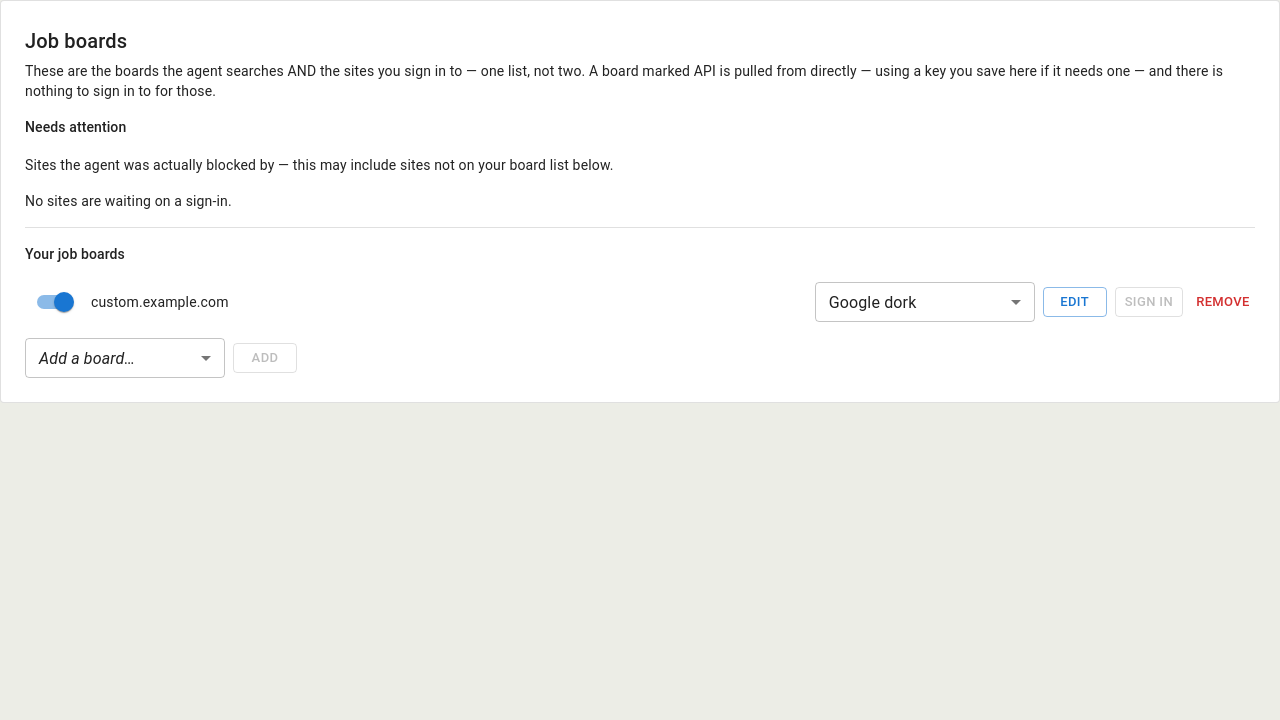
Test: JobBoardsPage › hides the posting link pattern field in dork mode
Expected: the heading "Job boards" is shown, [25,29,127,53]
Click the button "Edit": [1075, 302] box [1043,287,1107,317]
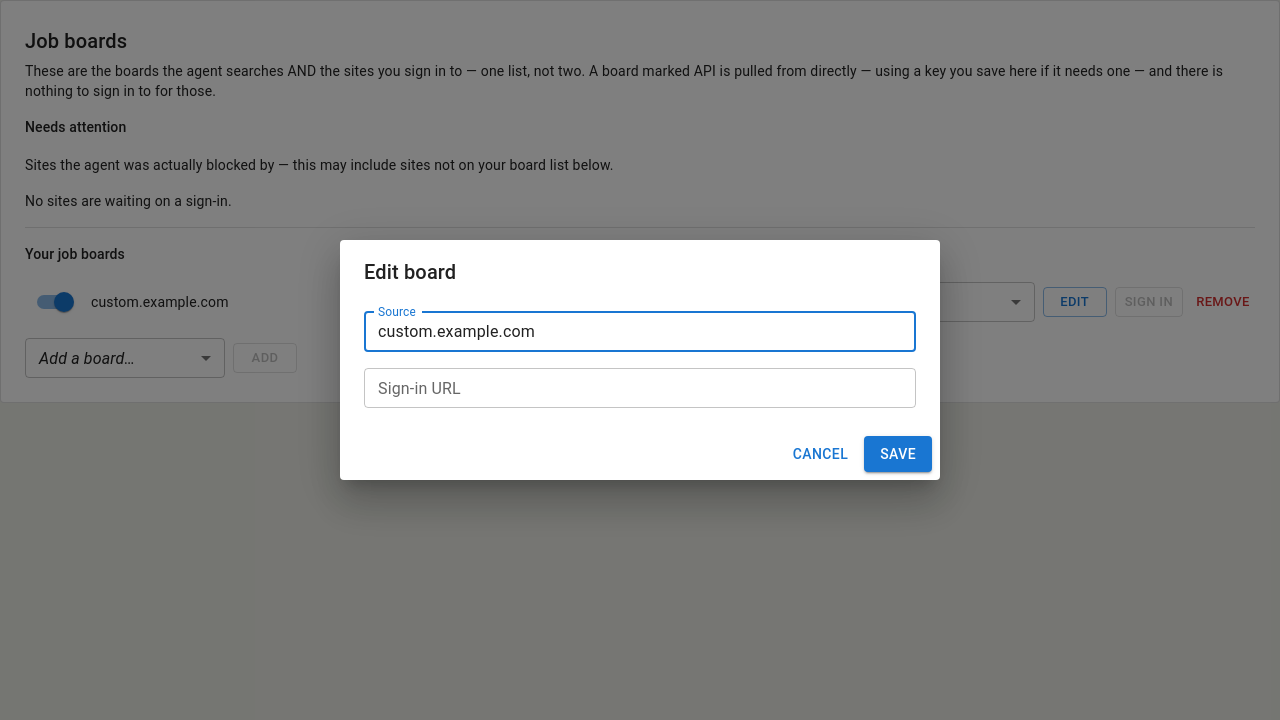
Now the field labelled "Sign-in URL" is shown, box [364,368,916,408]
